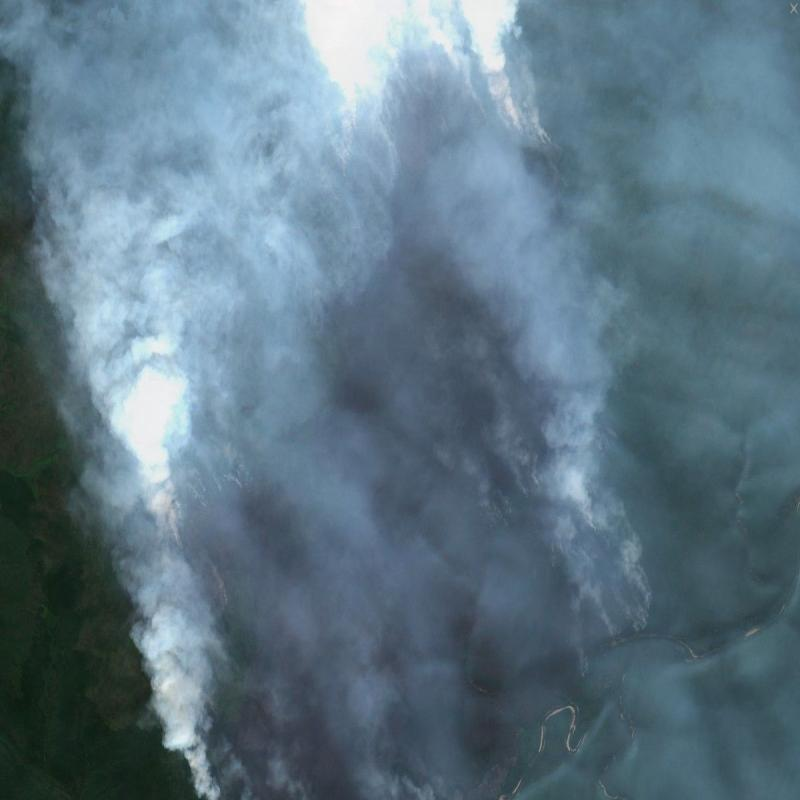fire: (472, 430, 662, 660), (120, 452, 200, 568), (464, 85, 576, 156), (162, 747, 241, 800)
